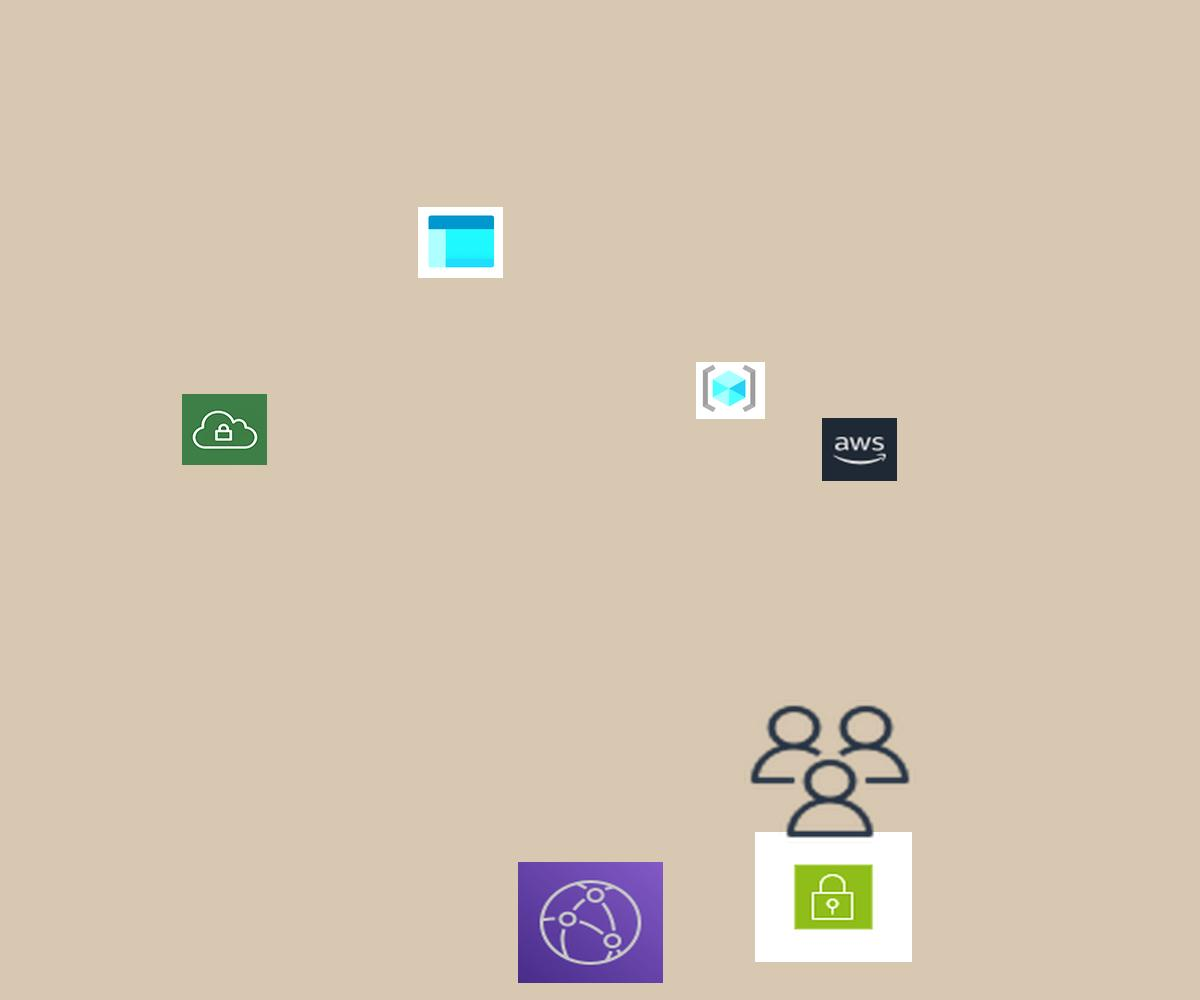AWS-Cloud-logo: (822, 418, 897, 481)
AWS-CloudFront: (518, 862, 663, 983)
AWS-Private_vpc: (182, 394, 267, 465)
AWS-Public-subnet: (755, 832, 912, 962)
AWS-Res_Users: (744, 700, 916, 843)
Azure_management-portal: (418, 207, 503, 278)
Azure_resource_group: (696, 362, 765, 419)
